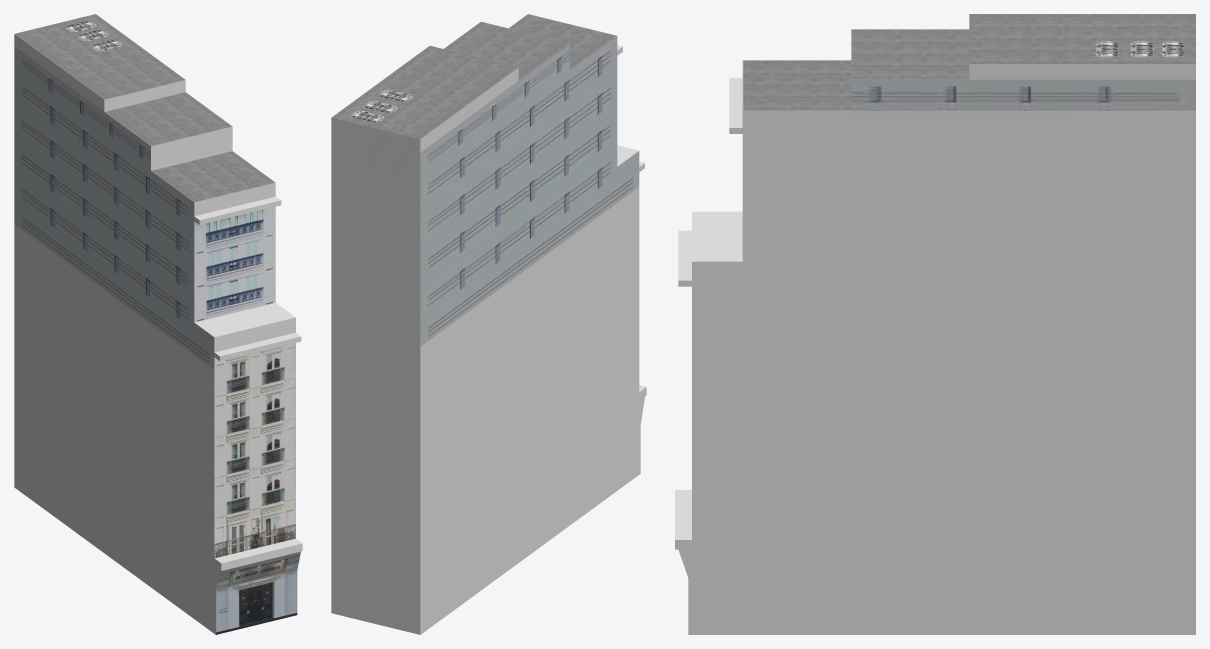
The picture shows the model from 3 angles, left to right: view 1: azimuth 30°, elevation 25°; view 2: azimuth 150°, elevation 25°; view 3: azimuth 270°, elevation 25°; orthographic projection. The views are drawn at different scales.
Parts seen in each view (by area): view 1: HN119___Grand_Minerva_Hotel; view 2: HN119___Grand_Minerva_Hotel; view 3: HN119___Grand_Minerva_Hotel.
Boxes of the visible parts, x1=… form: HN119___Grand_Minerva_Hotel: x1=14, y1=14, x2=302, y2=634; HN119___Grand_Minerva_Hotel: x1=331, y1=14, x2=646, y2=634; HN119___Grand_Minerva_Hotel: x1=675, y1=14, x2=1195, y2=634.
Size of the model in its own units: 7 by 37.23 by 30.79.
1 material, 1 textured.
